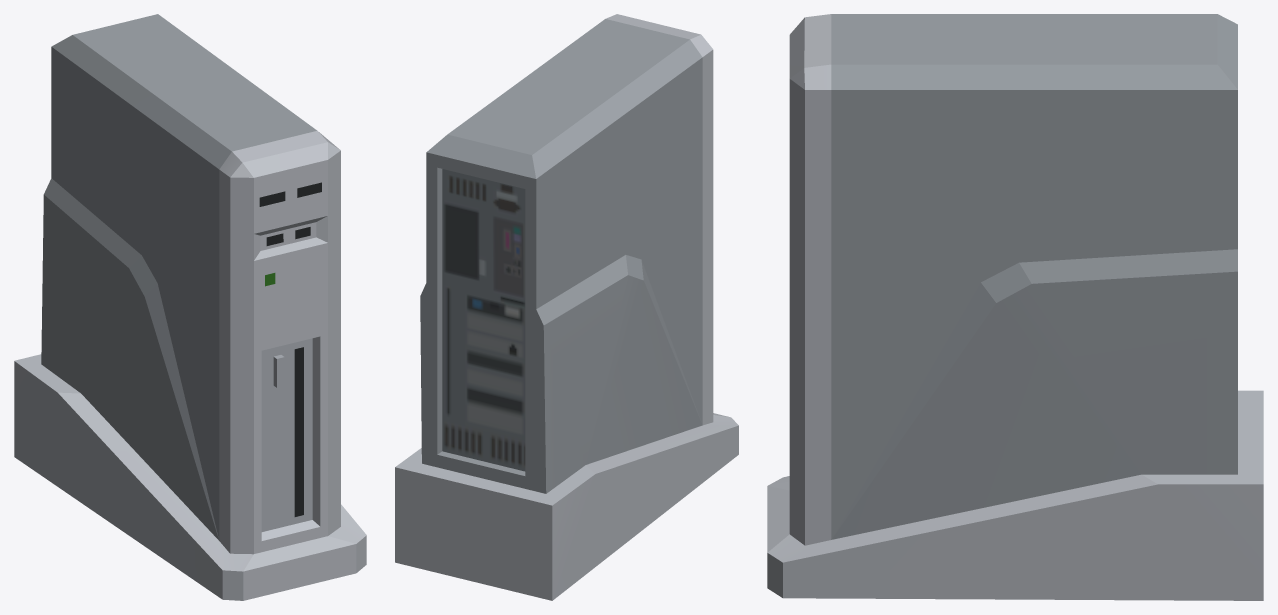
Rendered from SM_Prop_Computer_Gaming_Console_02.obj.
The picture shows the model from 3 angles, left to right: view 1: azimuth 30°, elevation 25°; view 2: azimuth 150°, elevation 25°; view 3: azimuth 270°, elevation 25°; orthographic projection. The views are drawn at different scales.
Visible parts, largest first — view 1: SM_Prop_Computer_Gaming_Console_02_0; view 2: SM_Prop_Computer_Gaming_Console_02_0; view 3: SM_Prop_Computer_Gaming_Console_02_0.
Boxes of the visible parts, bbox=[...] form: SM_Prop_Computer_Gaming_Console_02_0: bbox=[14, 14, 366, 600]; SM_Prop_Computer_Gaming_Console_02_0: bbox=[395, 14, 738, 600]; SM_Prop_Computer_Gaming_Console_02_0: bbox=[767, 14, 1263, 600].
Bounding box in the file's own units: 0.1771 × 0.4545 × 0.3956.
1 material, 1 textured.
